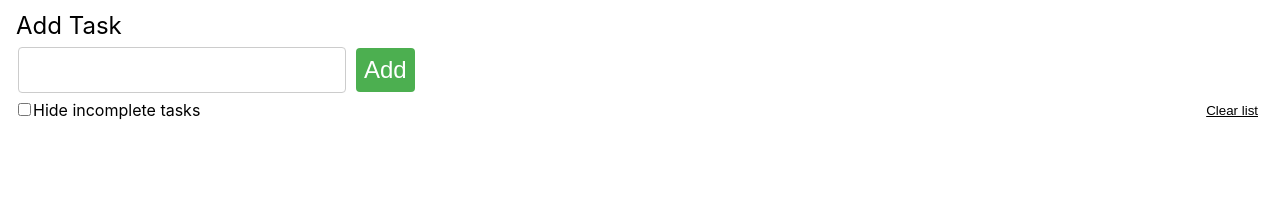
allows the user to add a new task
In the field labelled "Add Task": (182,70) [18,47,346,93], type "Learn React Testing"
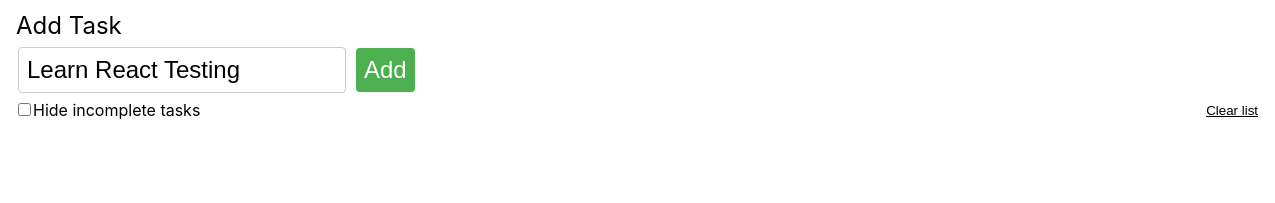
Click the button "Add": (385,70) [356,48,415,92]
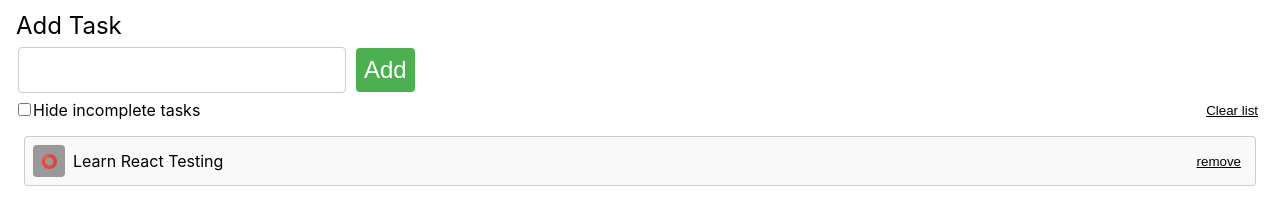
Result: the text "Learn React Testing" is shown at [73,151,223,171]
